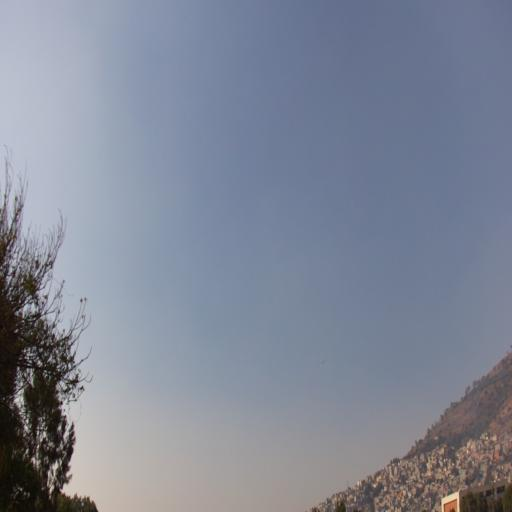drones: (321, 359, 326, 365)
